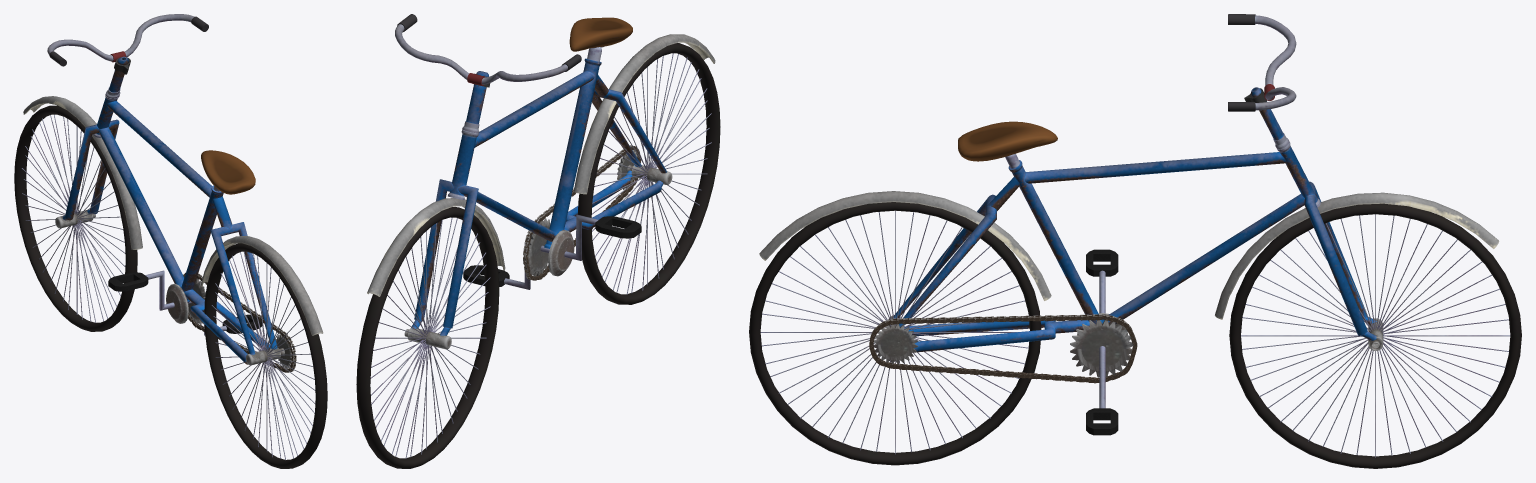
File: bicicleta.glb
3 views of the same model, side by side, from view 1: azimuth 30°, elevation 25°; view 2: azimuth 150°, elevation 25°; view 3: azimuth 270°, elevation 25° (orthographic). The views are drawn at different scales.
Parts seen in each view (by area): view 1: Bicicleta__0; view 2: Bicicleta__0; view 3: Bicicleta__0.
Boxes of the visible parts, bbox=[...] form: Bicicleta__0: bbox=[14, 14, 327, 468]; Bicicleta__0: bbox=[356, 14, 720, 468]; Bicicleta__0: bbox=[749, 14, 1521, 468].
Size of the model in its own units: 0.2841 by 0.5905 by 1.01.
Materials: 1 (1 with a texture image).
